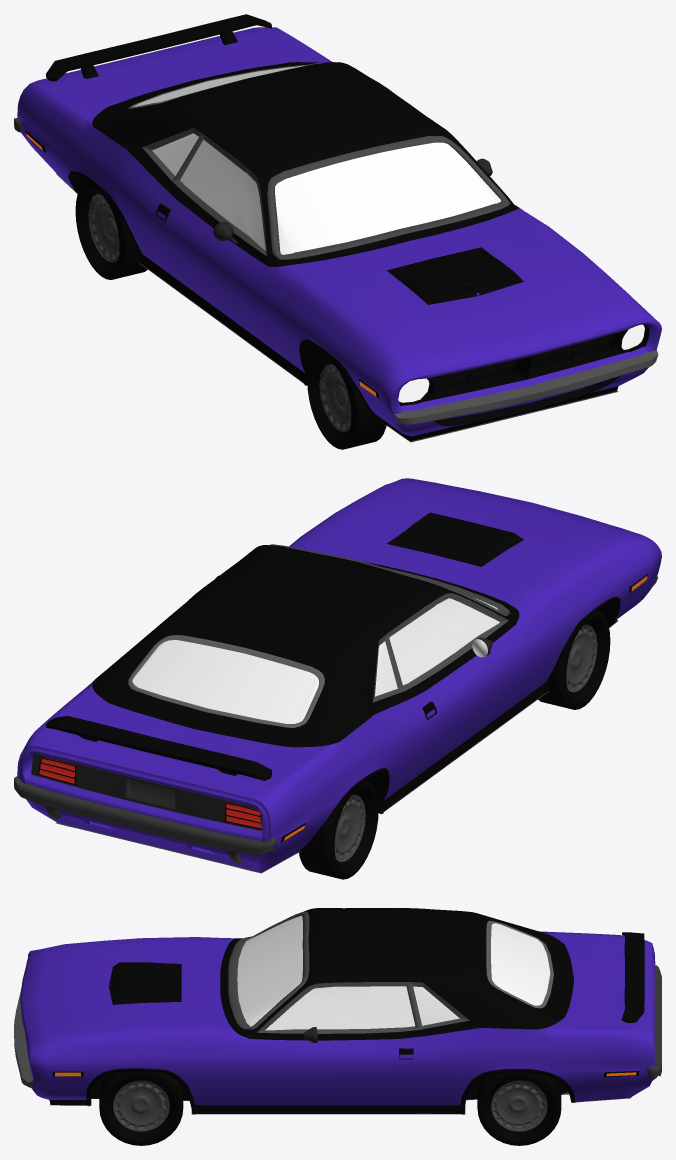
The model's file is Plymouth.glb.
The picture shows the model from 3 angles, top to bottom: view 1: azimuth 30°, elevation 25°; view 2: azimuth 150°, elevation 25°; view 3: azimuth 270°, elevation 25°; orthographic projection. The views are drawn at different scales.
Visible parts, largest first — view 1: Car_Body, Wheel_FR, Wheel_RR; view 2: Car_Body, Wheel_RR, Wheel_FR; view 3: Car_Body, Wheel_FL, Wheel_RL.
Boxes of the visible parts, left/top/right/bottom form: Car_Body: left=14, top=14, right=661, bottom=442; Wheel_FR: left=307, top=350, right=386, bottom=449; Wheel_RR: left=75, top=180, right=147, bottom=279; Car_Body: left=14, top=478, right=661, bottom=873; Wheel_RR: left=299, top=780, right=378, bottom=879; Wheel_FR: left=538, top=610, right=610, bottom=709; Car_Body: left=14, top=908, right=661, bottom=1114; Wheel_FL: left=99, top=1071, right=183, bottom=1145; Wheel_RL: left=477, top=1072, right=561, bottom=1145.
Size of the model in its own units: 1.9 by 1.29 by 4.74.
